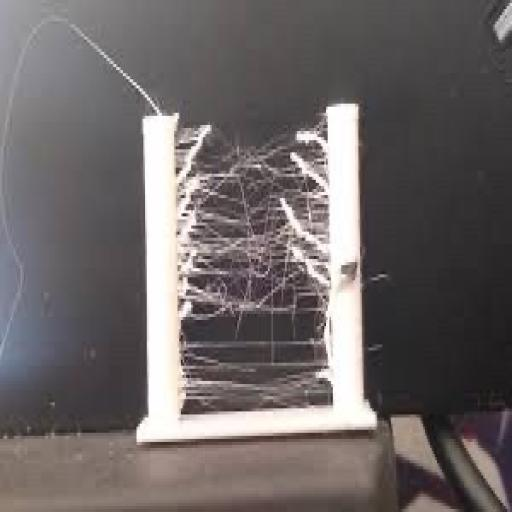stringing: (178, 114, 332, 402)
